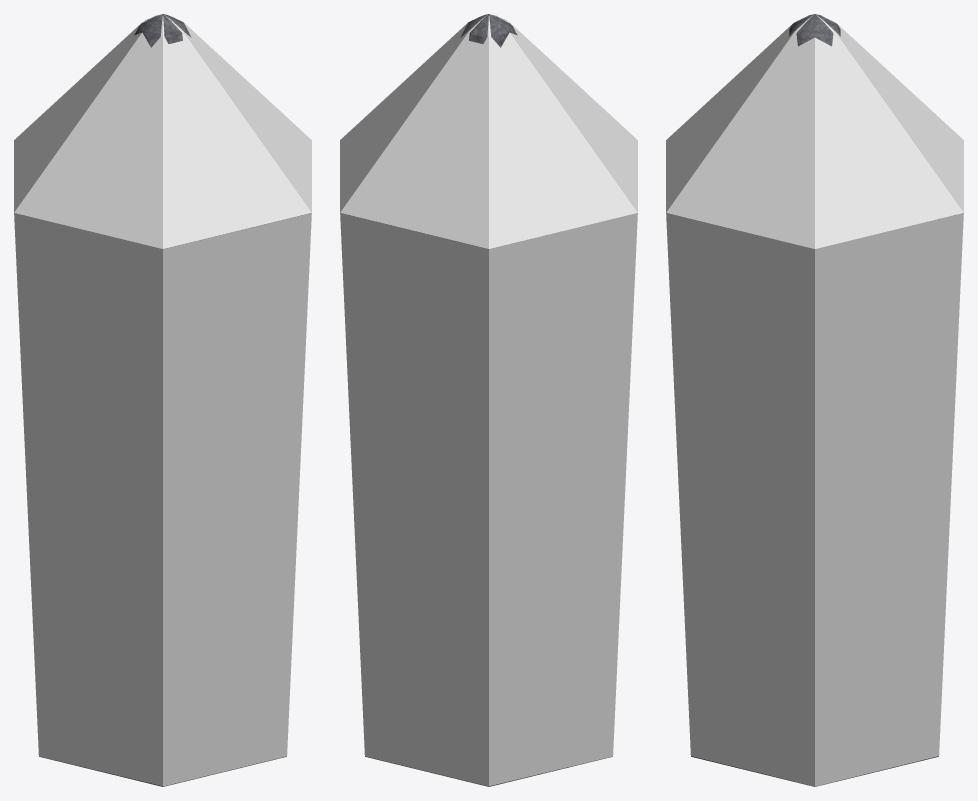
File: lantern_toro.webp.glb
3 renders of one model, left to right at view 1: azimuth 30°, elevation 25°; view 2: azimuth 150°, elevation 25°; view 3: azimuth 270°, elevation 25°, orthographic.
Visible parts, largest first — view 1: COL, LOD0_body; view 2: COL, LOD0_body; view 3: COL, LOD0_body.
Part boxes in pixels (box(x1,y1,x2,y2)): COL: box(14, 14, 311, 786); LOD0_body: box(134, 14, 191, 47); COL: box(340, 14, 637, 786); LOD0_body: box(460, 14, 517, 47); COL: box(666, 15, 963, 786); LOD0_body: box(789, 14, 837, 46).
Size of the model in its own units: 0.7001 by 1.6 by 0.6062.
2 materials, 1 textured.
